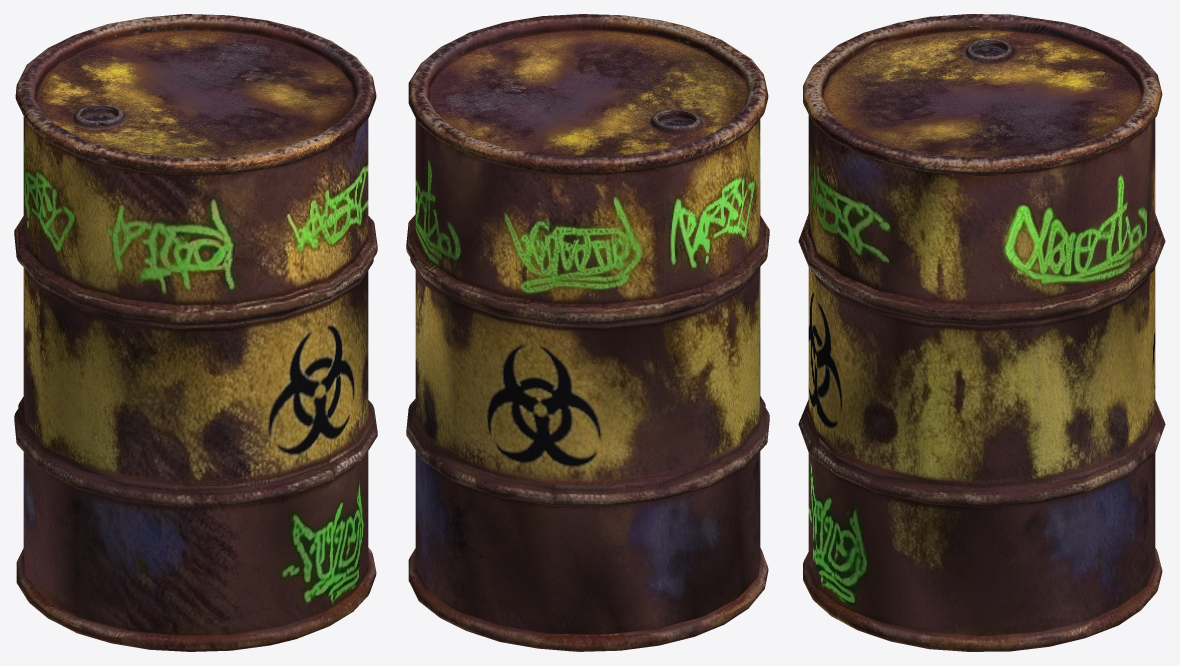
The model's file is Barrel_Metal_1.glb.
3 views of the same model, side by side, from view 1: azimuth 30°, elevation 25°; view 2: azimuth 150°, elevation 25°; view 3: azimuth 270°, elevation 25° (orthographic).
Bounding box in the file's own units: 1.29 × 1.91 × 1.29.
1 material, 1 textured.
